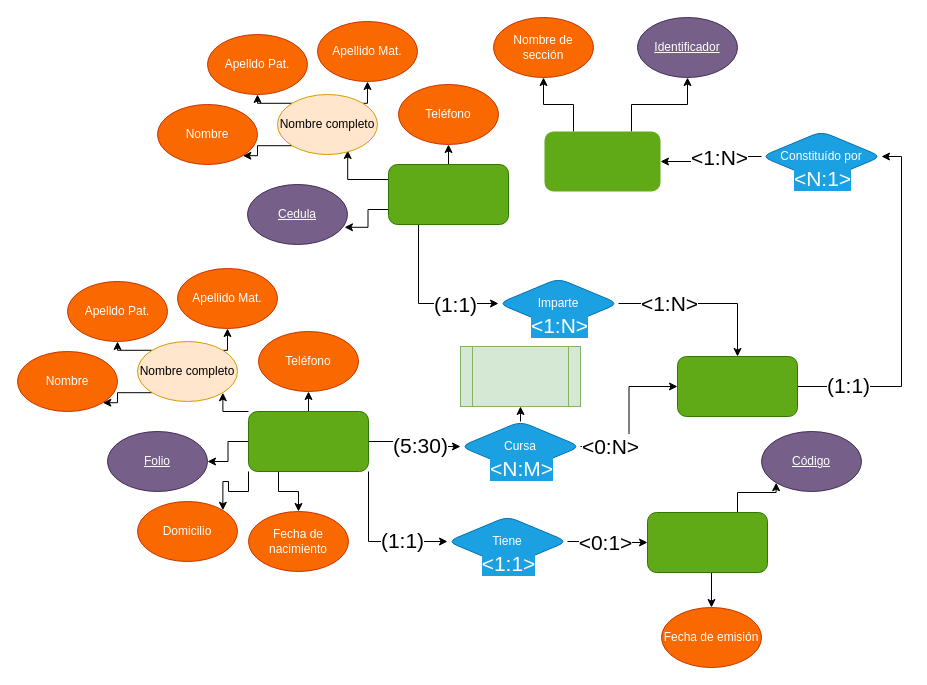
The diagram is 927 pixels wide and 685 high, and some of its shapes have lost their labels. Each missing label, with the centre of its shape:
Alumno: the point at 308,441
Calificación: the point at 520,376
Historial académico: the point at 707,542
Profesor: the point at 448,194
Sección: the point at 602,161
Taller: the point at 737,386
